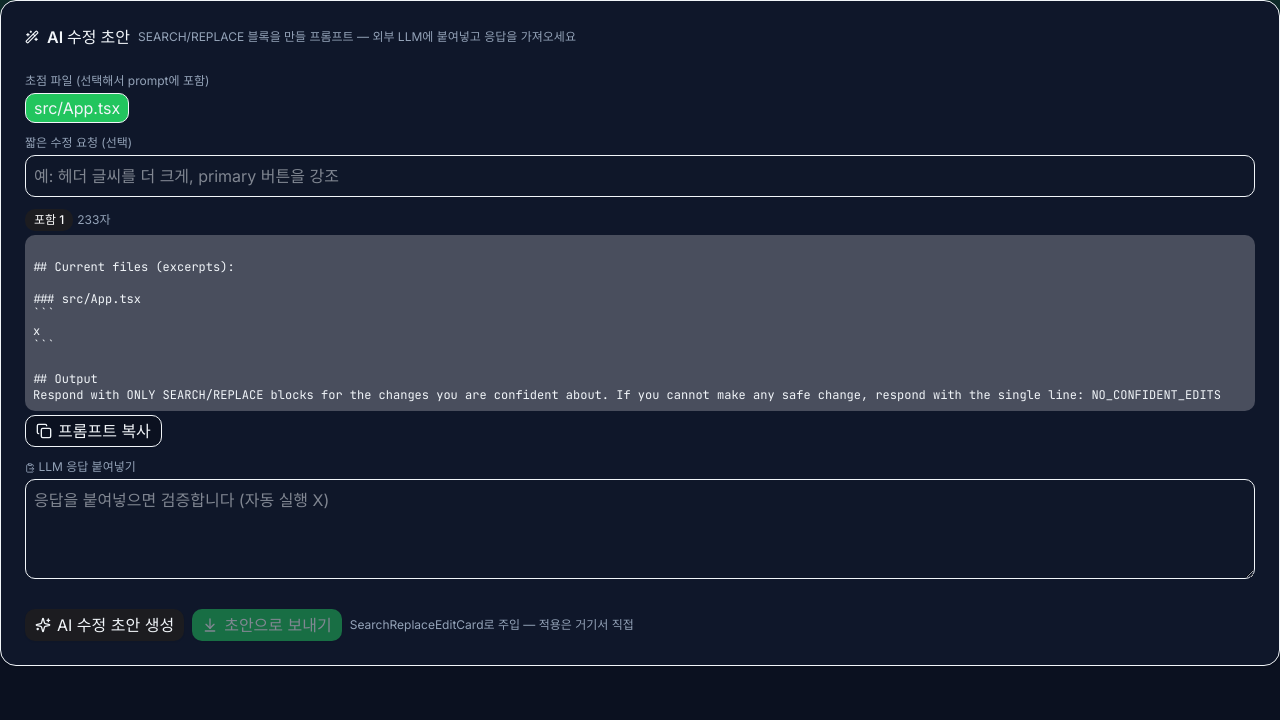
Scenario: TurboEditDraftCard — OSS-H5 producer surface › (T12 — H6) generator 응답이 NO_CONFIDENT_EDITS → 'no edits' 라벨 + 자동 주입 X
Type "x" into the field with test id "turbo-edits-instruction-th12" at (640, 176), box 25,155 -> 1255,197
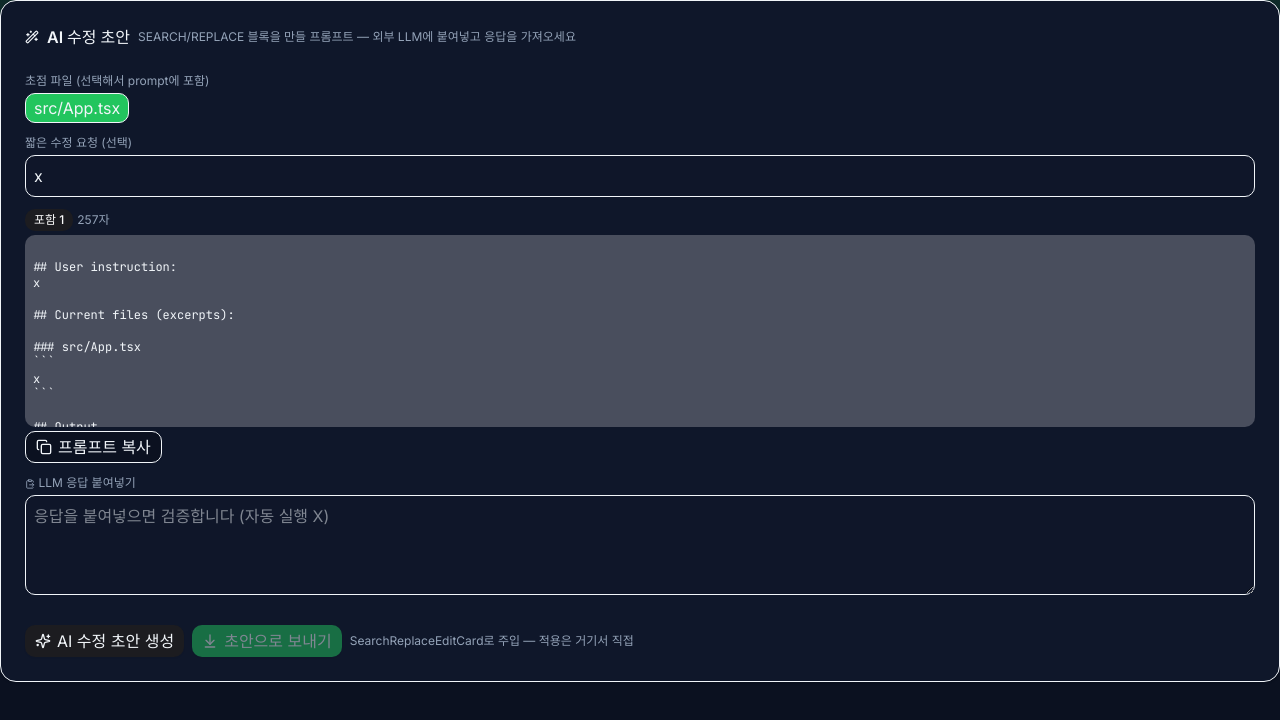
Click the button with test id "turbo-edits-generate-th12" at (105, 641), box 25,625 -> 184,657
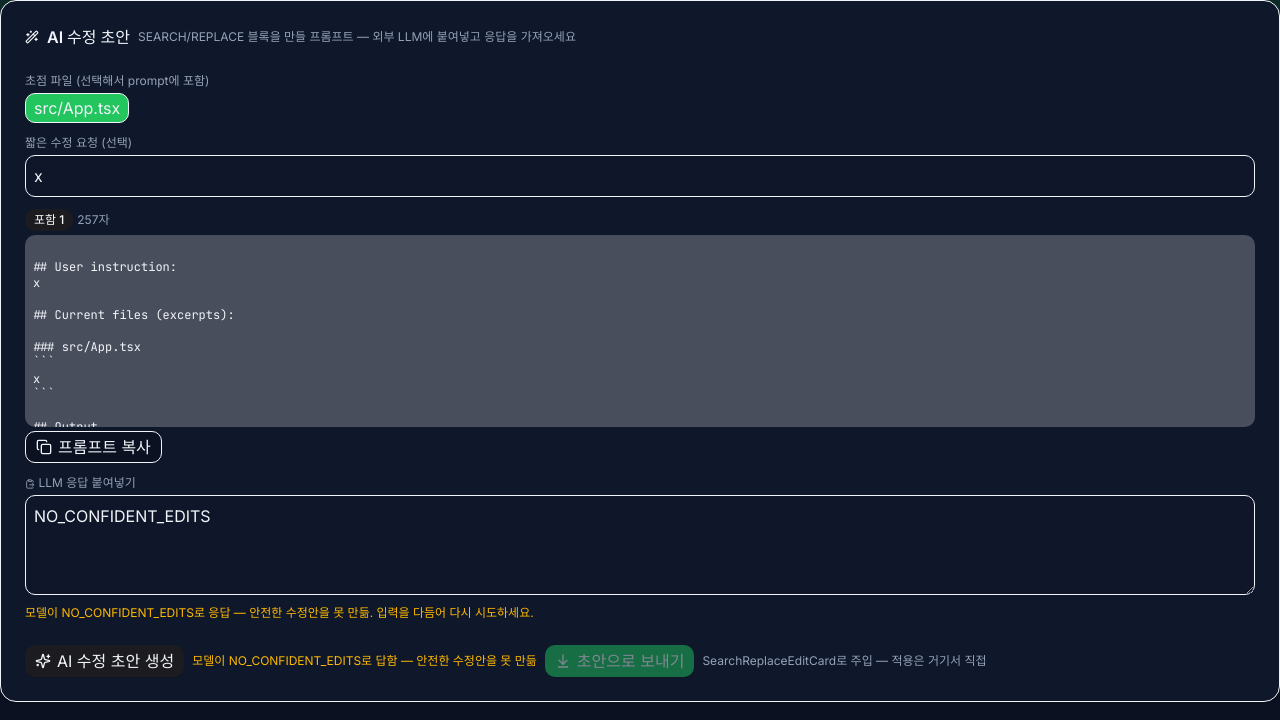
Expected: the text "모델이 NO_CONFIDENT_EDITS로 답함 — 안전한 수정안을 못 만듦" is shown, 192,653 -> 537,669
